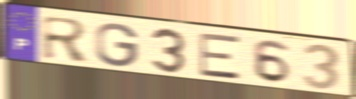3: (301, 43, 344, 91), (149, 26, 188, 75)
6: (251, 39, 292, 85)
E: (197, 32, 243, 81)
G: (94, 22, 141, 69)
R: (40, 14, 93, 64)
